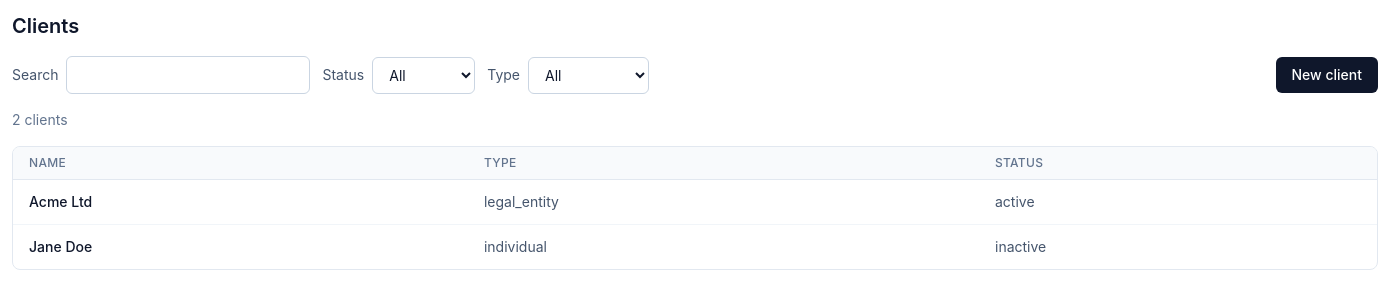
Test: ClientsIndexPage › filters by status using the backend status parameter
Expected: the link "Acme Ltd" is shown, [29,193,92,210]
Select "inactive" in the dropdown named "filter by status" at (424, 75), box [372,56,475,94]
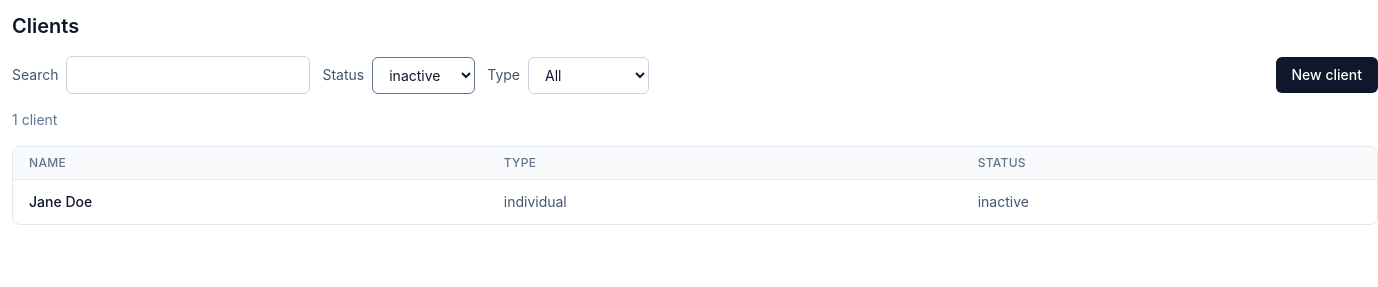
Expected: the link "Acme Ltd" is gone
